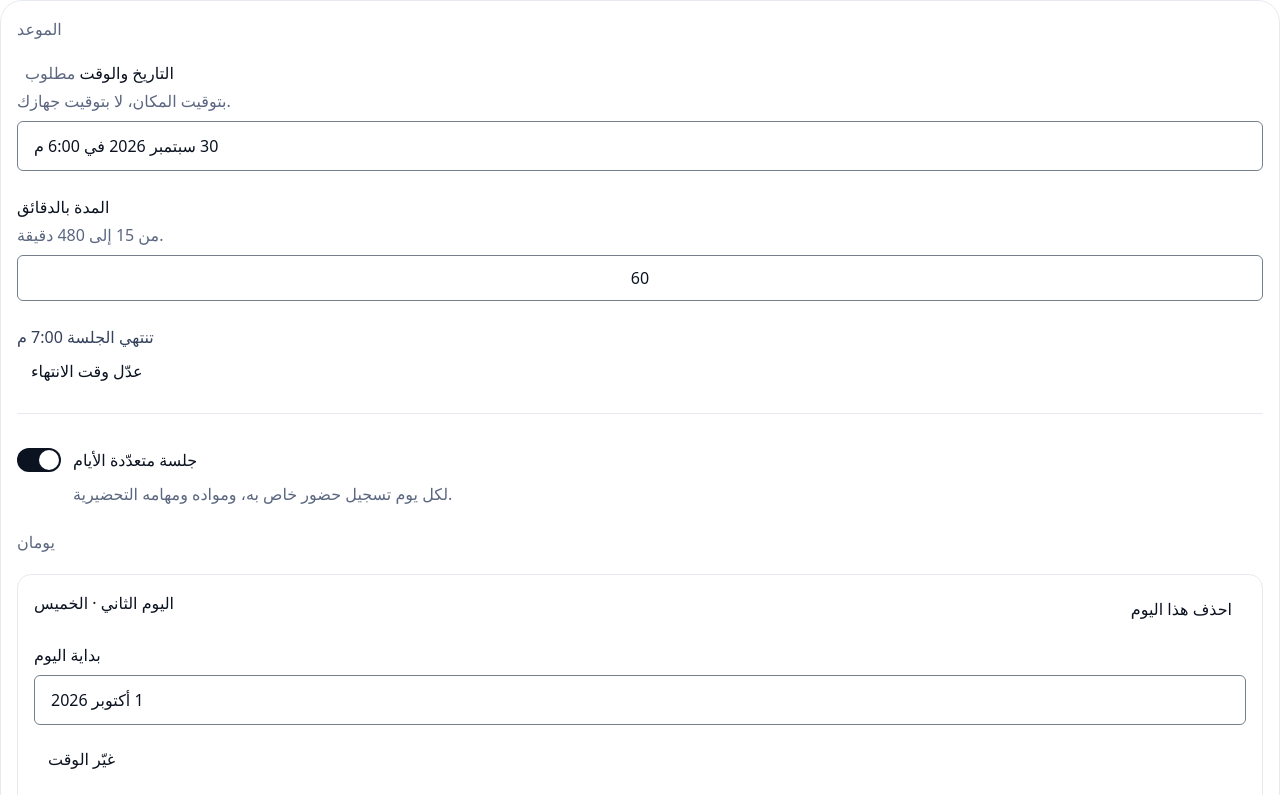
Test: ★ removing a day asks, and names it (DEC-121) › names the day and says its content moves to the session rather than being deleted
The width and height of the screenshot is (1280, 795).
Click the button "احذف هذا اليوم".
click(1181, 609)  # box [1117,591,1246,627]
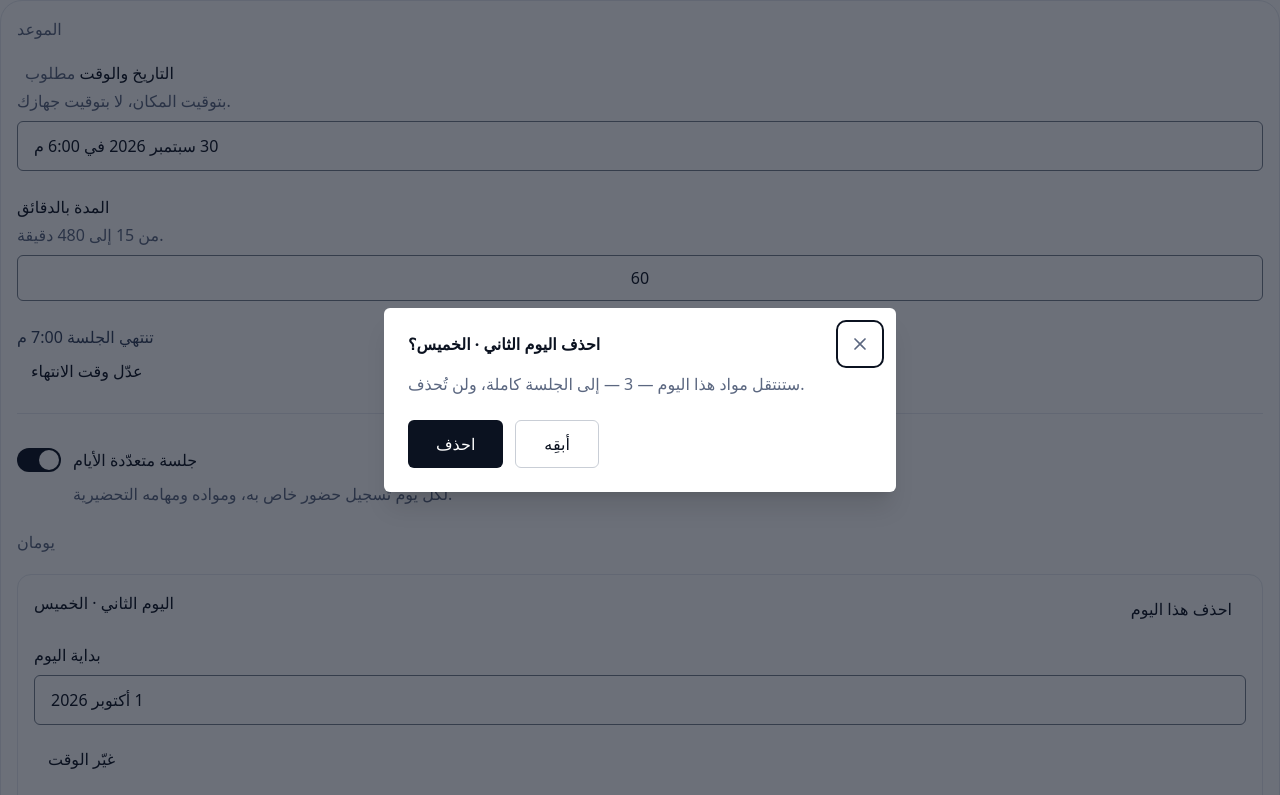
Result: the heading "احذف اليوم الثاني · الخميس؟" is shown at [408,332,600,356]
Result: the text "ستنتقل مواد هذا اليوم — 3 — إلى الجلسة كاملة، ولن تُحذف." is shown at [408,372,872,396]
